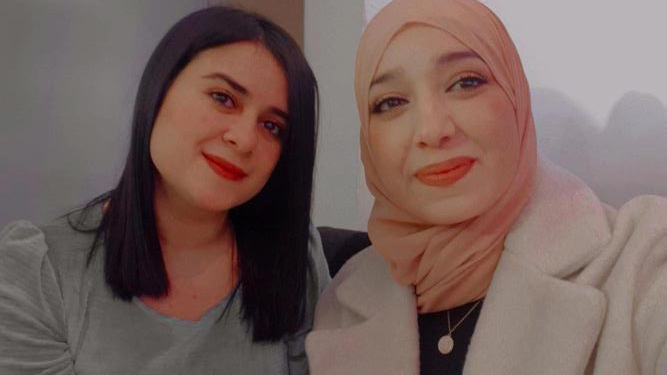without_mask: (361, 48, 514, 220), (174, 67, 292, 208)
